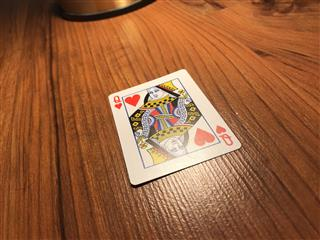QueenOfHearts: (107, 68, 241, 185)
